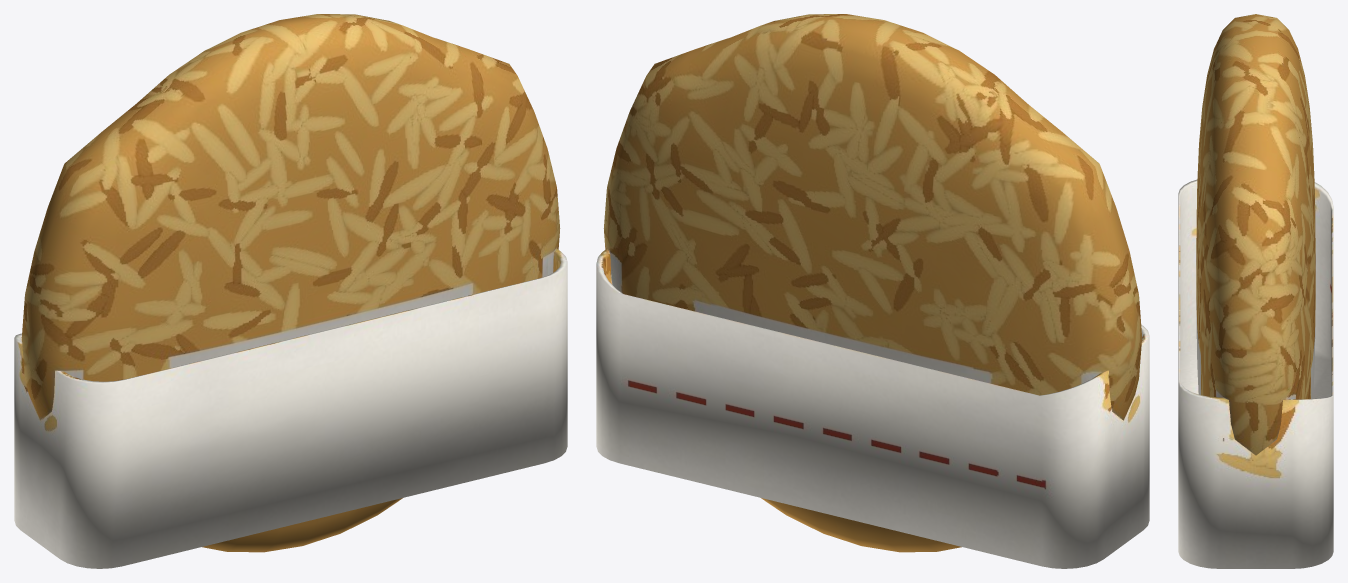
The model's file is hashbrown.glb.
3 renders of one model, left to right at view 1: azimuth 30°, elevation 25°; view 2: azimuth 150°, elevation 25°; view 3: azimuth 270°, elevation 25°, orthographic. The views are drawn at different scales.
Parts seen in each view (by area): view 1: prop_hashbrown_felt; view 2: prop_hashbrown_felt; view 3: prop_hashbrown_felt.
Boxes of the visible parts, bbox=[...] form: prop_hashbrown_felt: bbox=[14, 14, 567, 568]; prop_hashbrown_felt: bbox=[596, 14, 1149, 568]; prop_hashbrown_felt: bbox=[1178, 14, 1333, 568].
Bounding box in the file's own units: 0.1597 × 0.1507 × 0.045.
Materials: 1 (1 with a texture image).
